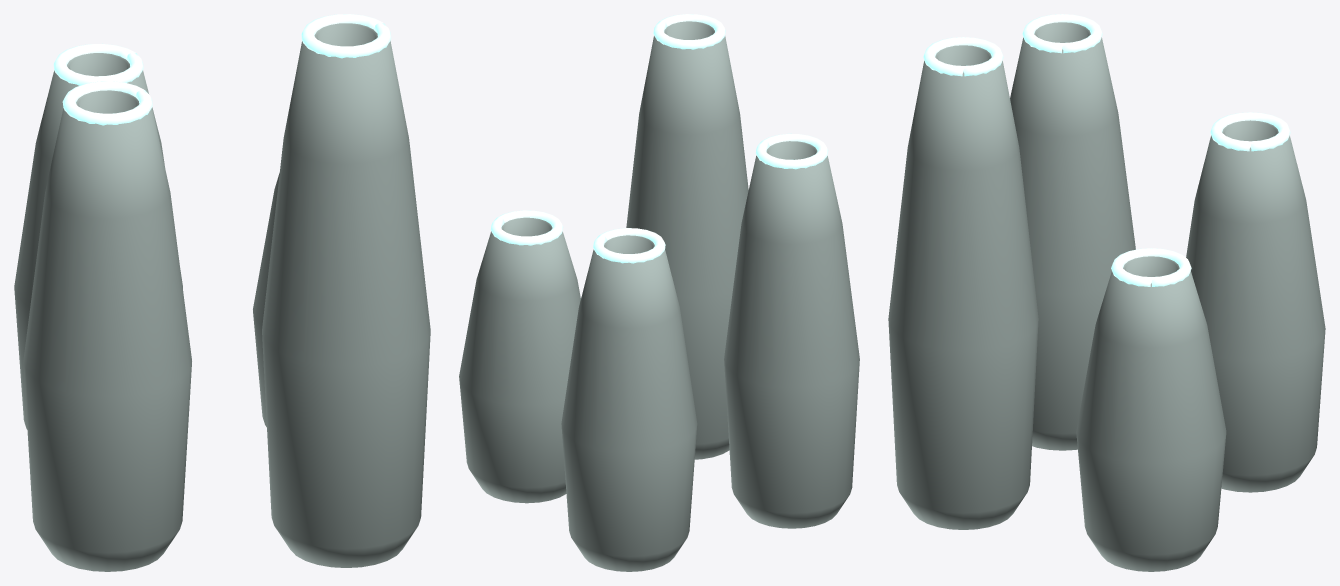
File: structure-glass.glb
3 renders of one model, left to right at view 1: azimuth 30°, elevation 25°; view 2: azimuth 150°, elevation 25°; view 3: azimuth 270°, elevation 25°, orthographic. The views are drawn at different scales.
Parts seen in each view (by area): view 1: awake; view 2: awake; view 3: awake.
Part boxes in pixels (x1,y1,x2,y2): awake: [14, 14, 430, 571]; awake: [459, 14, 859, 571]; awake: [888, 14, 1325, 571].
Size of the model in its own units: 2.04 by 2.35 by 2.04.
